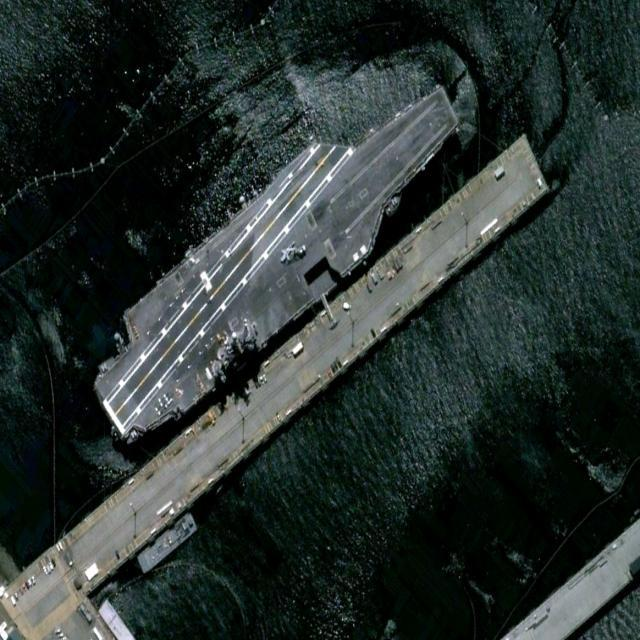Aircraft Carrier: (78, 45, 478, 465)
Other Warship: (135, 510, 197, 576)
